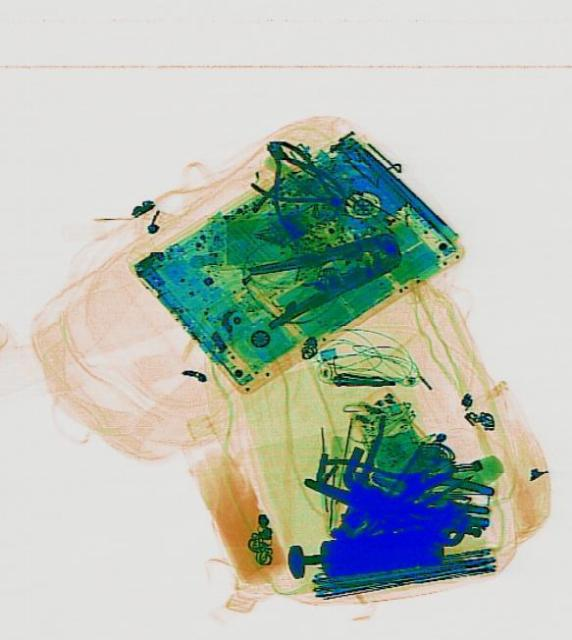Pliers: (243, 218, 407, 328), (239, 121, 355, 247), (243, 133, 359, 230)
